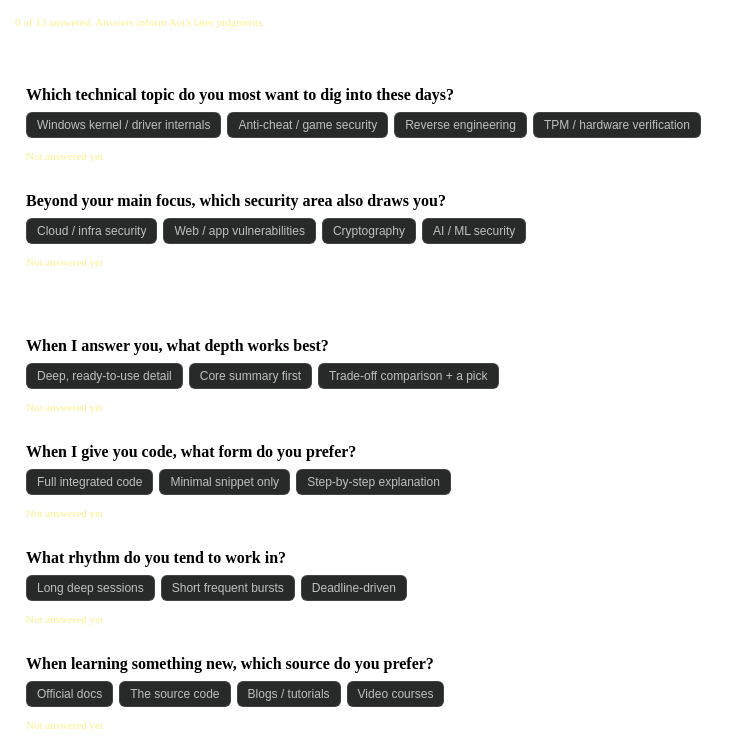
AoiPreferenceDashboard › sets an answer: marks it, shows the learned statement, and persists a memory
The width and height of the screenshot is (729, 749).
Click the button "Anti-cheat / game security" at (308, 125), box [227,112,388,138]
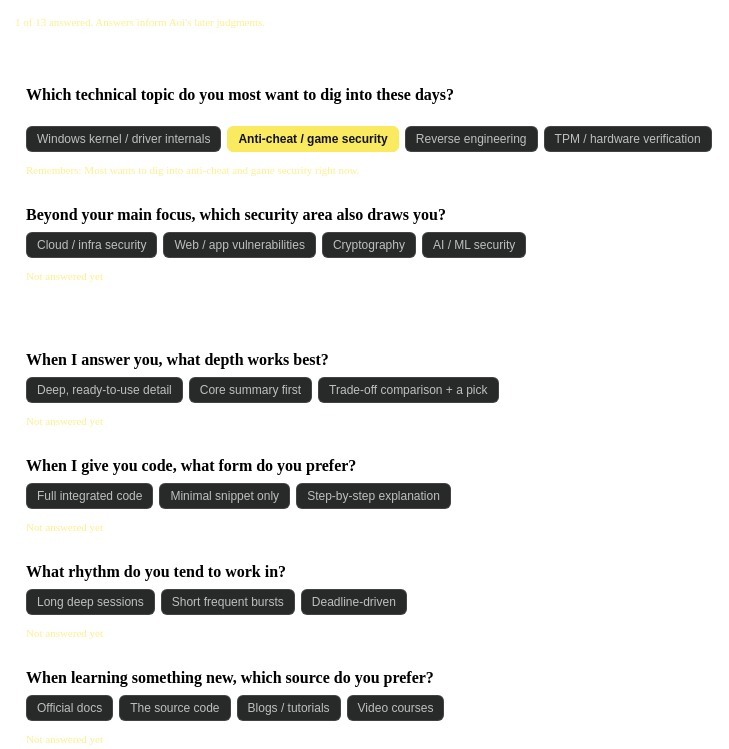
Expected: the text "Remembers:" is shown, [26,164,360,176]
Expected: the text with test id "aoi-preference-summary" shows "1 of", [15,16,265,28]
